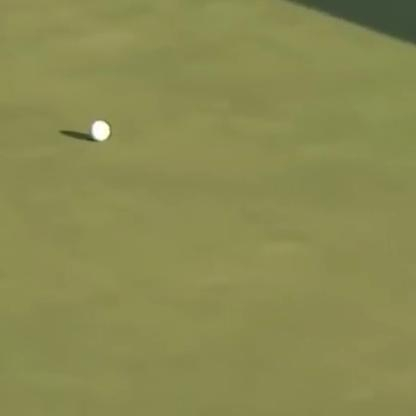golfball: (90, 115, 109, 139)
